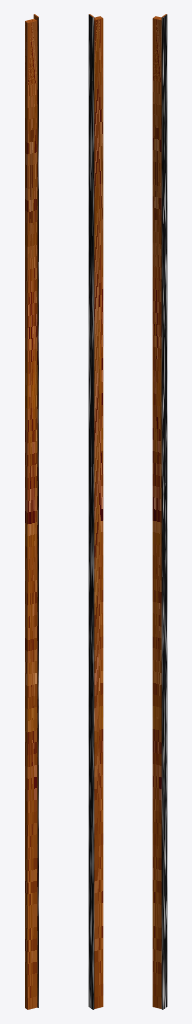
File: clean_left_dooorlift.glb
3 renders of one model, left to right at view 1: azimuth 30°, elevation 25°; view 2: azimuth 210°, elevation 25°; view 3: azimuth 330°, elevation 25°, orthographic.
Parts seen in each view (by area): view 1: Куб.001; view 2: Куб.001; view 3: Куб.001.
Boxes of the visible parts, x1,y1,x2,y2 form: Куб.001: (25,14,38,1009); Куб.001: (88,14,103,1009); Куб.001: (152,14,167,1009).
Bounding box in the file's own units: 1.28 × 112 × 0.8765.
Materials: 2 (2 with a texture image).
